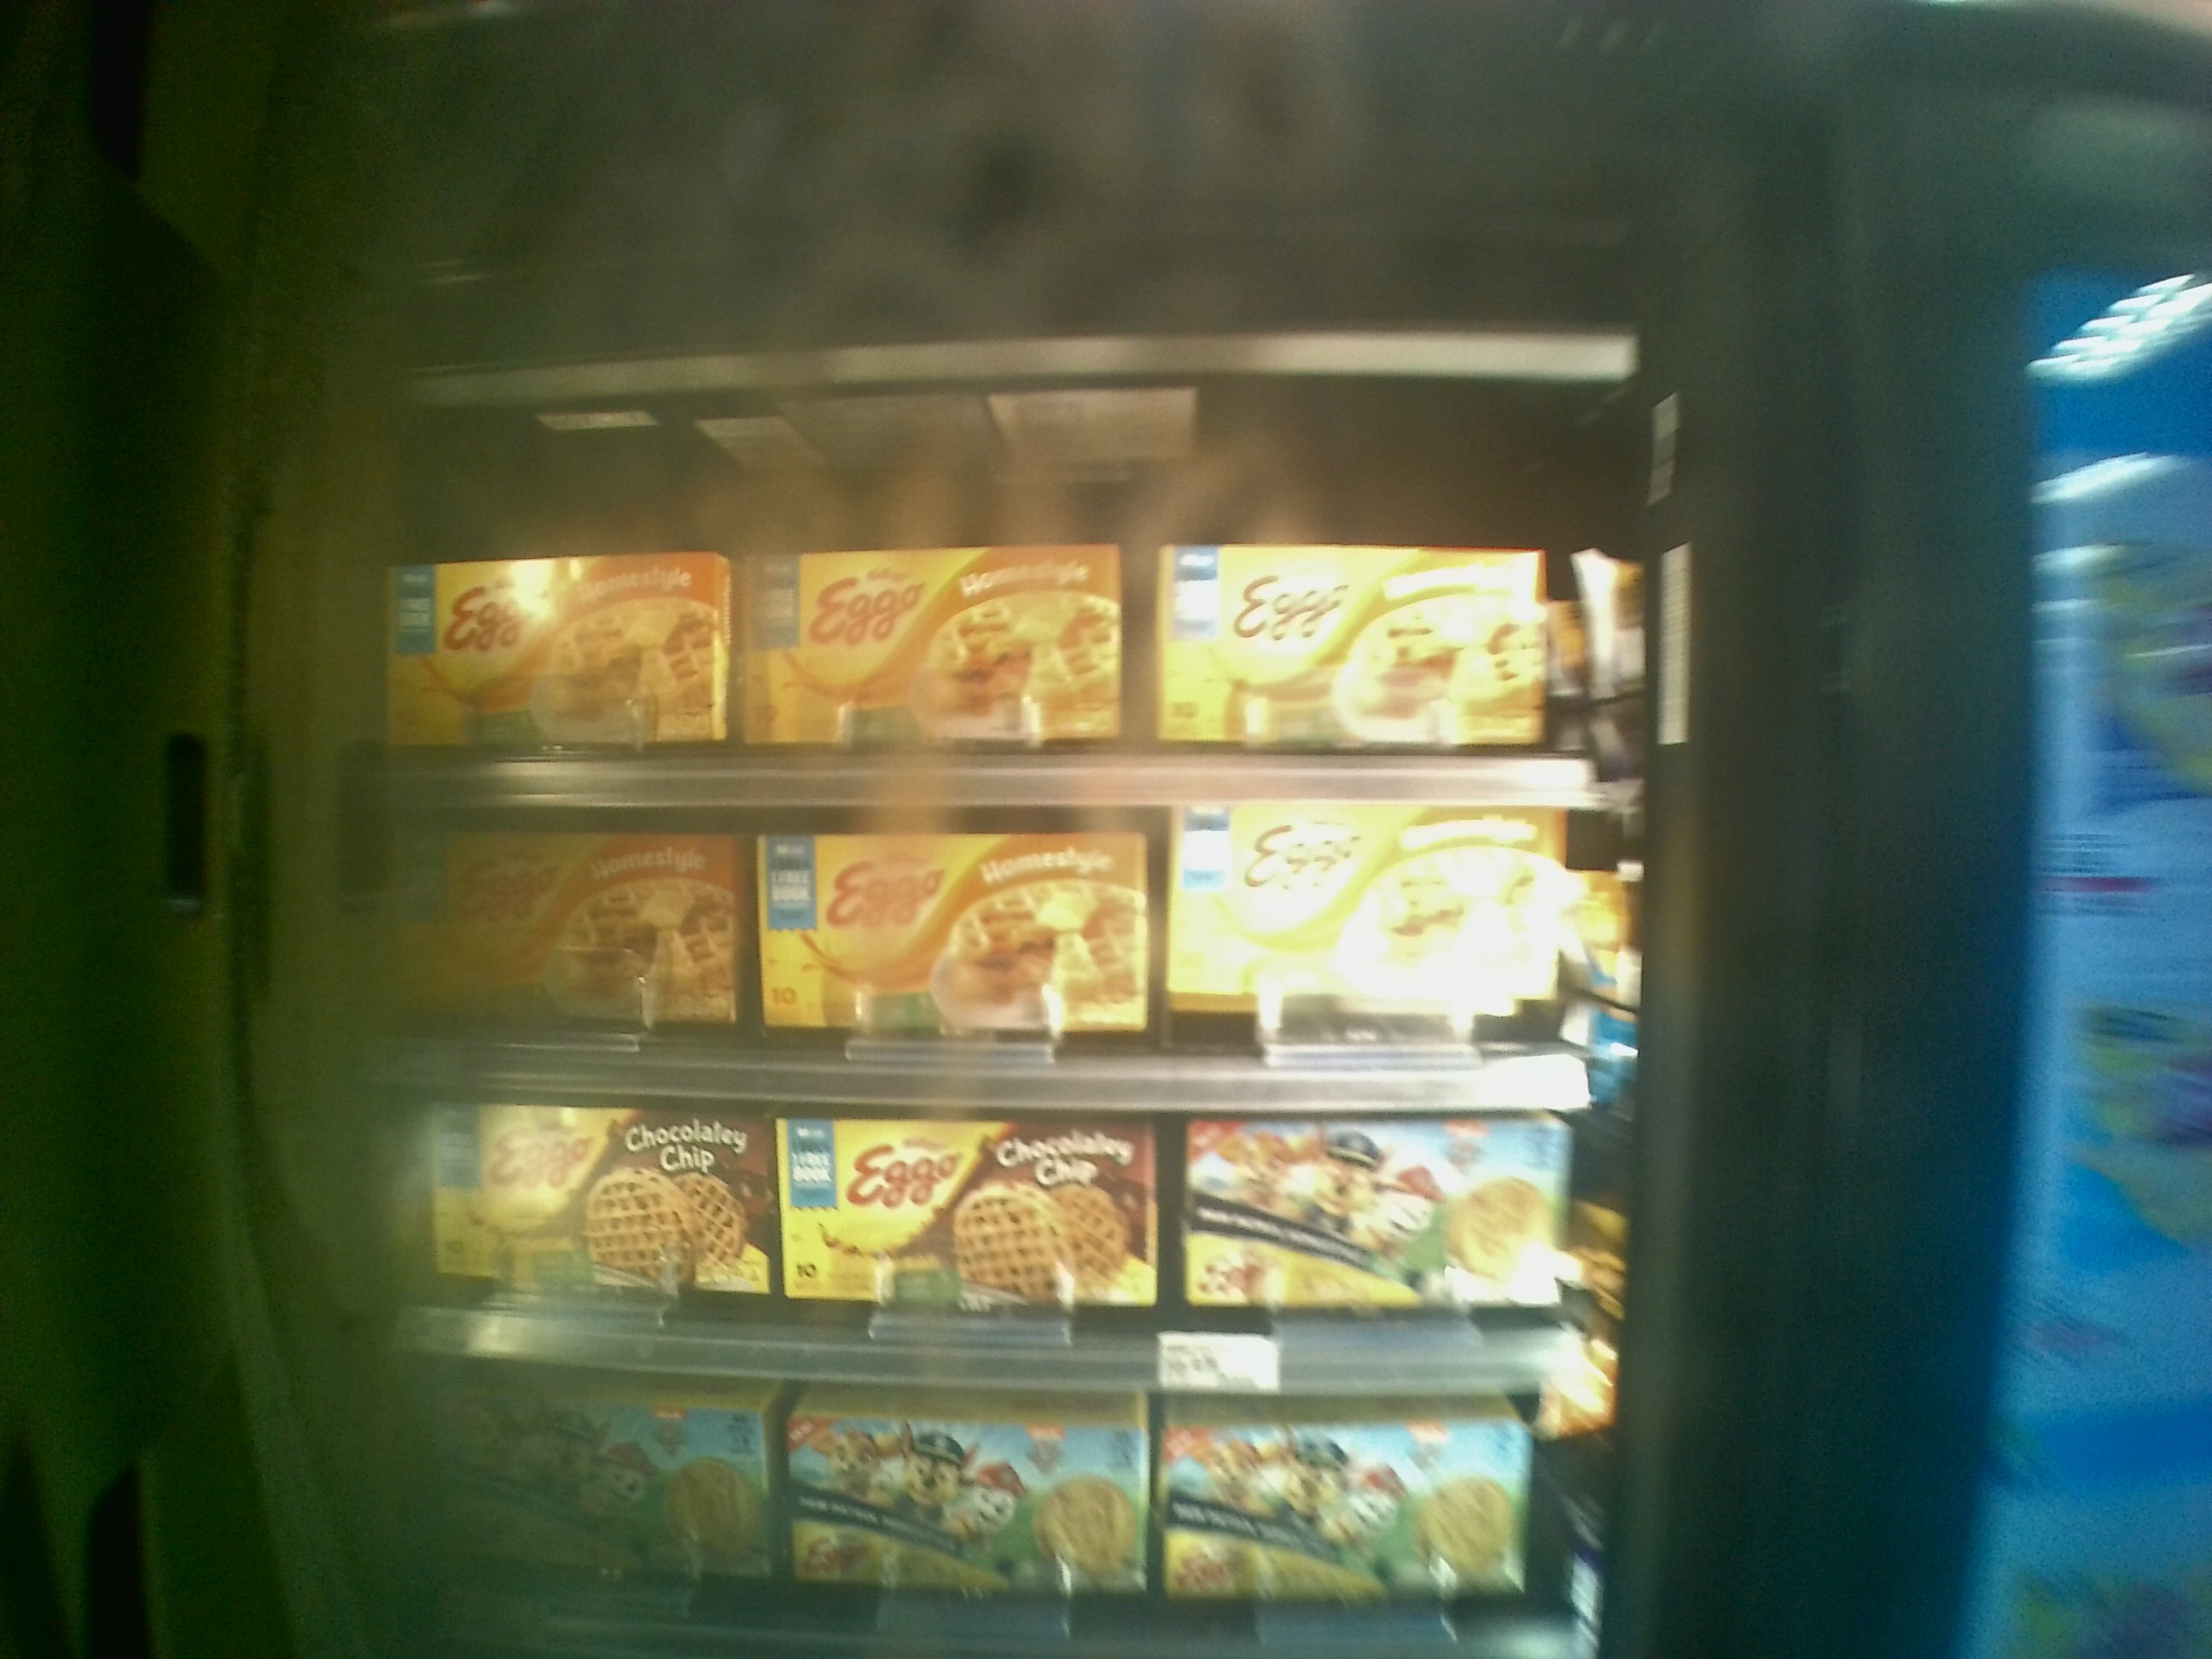shelf: (361, 342, 1601, 802), (371, 788, 1599, 1110), (383, 1089, 1611, 1389)
